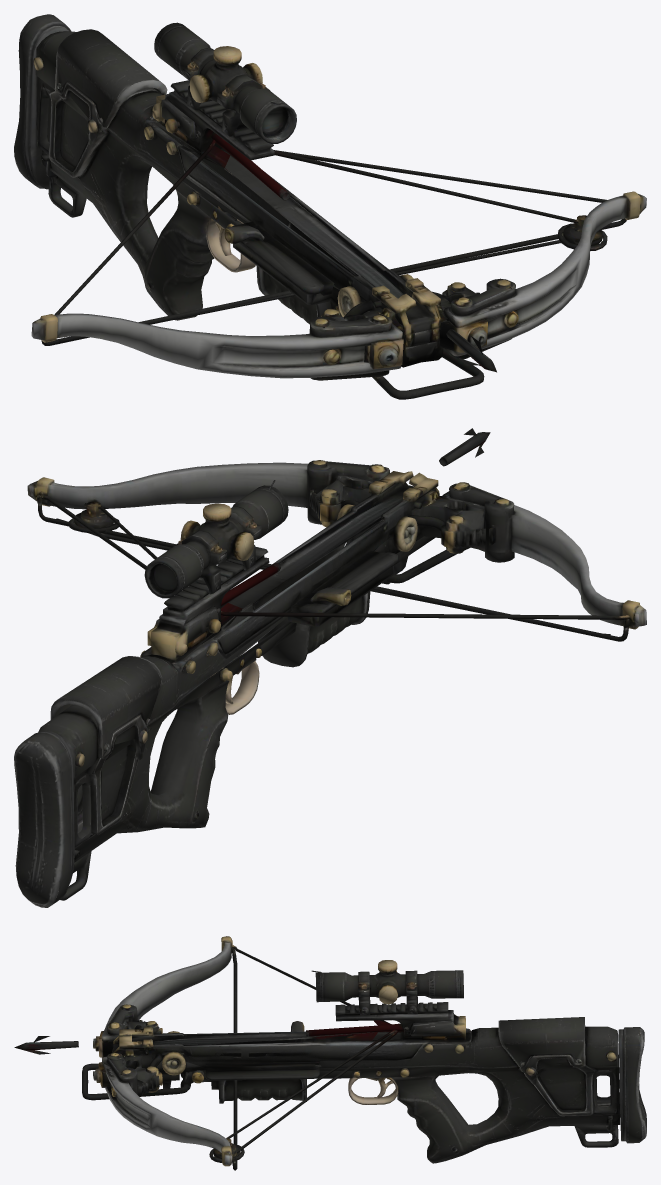
File: selected.fbx
3 renders of one model, top to bottom at view 1: azimuth 30°, elevation 25°; view 2: azimuth 150°, elevation 25°; view 3: azimuth 270°, elevation 25°, orthographic. The views are drawn at different scales.
Visible parts, largest first — view 1: tripo_node_20c1c174-bf4f-4228-bf49-bc688263c90a; view 2: tripo_node_20c1c174-bf4f-4228-bf49-bc688263c90a; view 3: tripo_node_20c1c174-bf4f-4228-bf49-bc688263c90a.
Boxes of the visible parts, bbox=[...] form: tripo_node_20c1c174-bf4f-4228-bf49-bc688263c90a: bbox=[14, 14, 646, 399]; tripo_node_20c1c174-bf4f-4228-bf49-bc688263c90a: bbox=[14, 428, 646, 907]; tripo_node_20c1c174-bf4f-4228-bf49-bc688263c90a: bbox=[14, 936, 646, 1170].
Size of the model in its own units: 0.771 by 0.3472 by 0.9995.
1 material, 1 textured.
